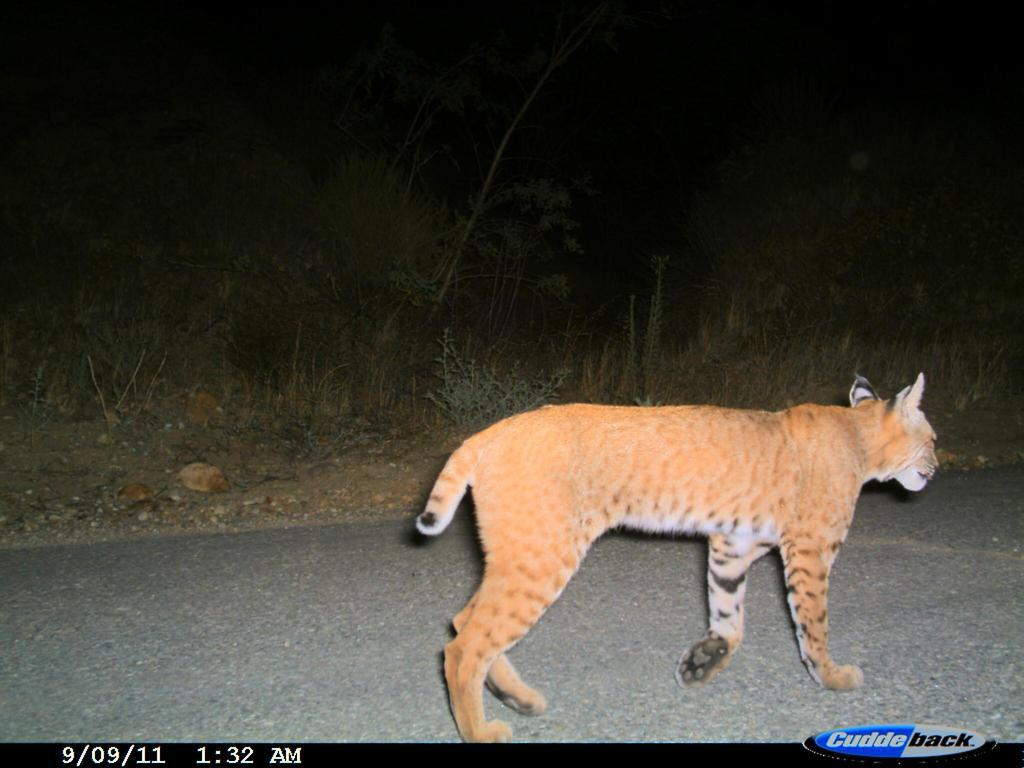bobcat: (411, 364, 946, 747)
